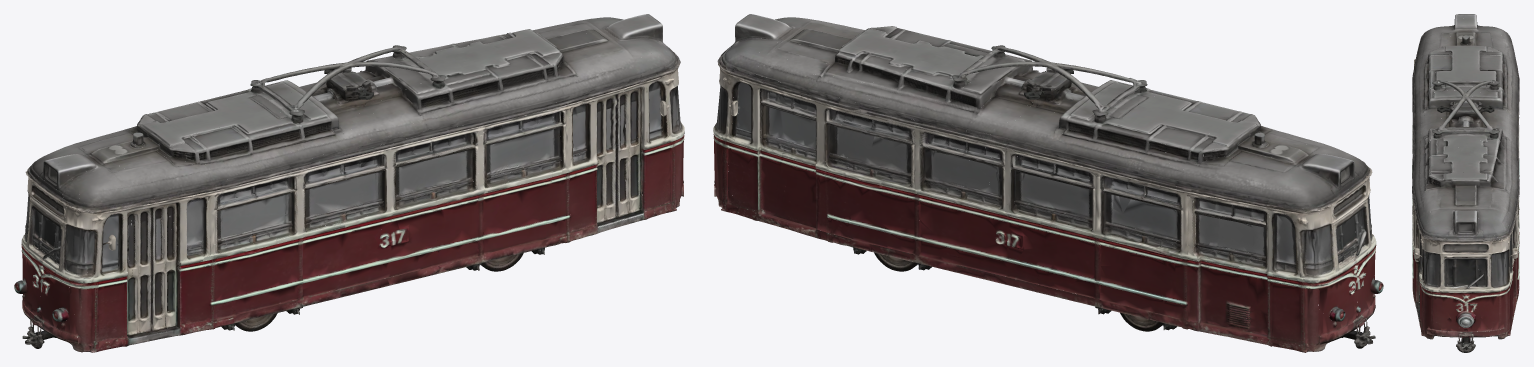
File: gotha_t57.glb
3 views of the same model, side by side, from view 1: azimuth 30°, elevation 25°; view 2: azimuth 150°, elevation 25°; view 3: azimuth 270°, elevation 25° (orthographic). The views are drawn at different scales.
Visible parts, largest first — view 1: Gotha_T57; view 2: Gotha_T57; view 3: Gotha_T57.
Part boxes in pixels (left/top/right/bottom): Gotha_T57: left=14, top=14, right=684, bottom=352; Gotha_T57: left=713, top=14, right=1383, bottom=352; Gotha_T57: left=1412, top=14, right=1519, bottom=352.
Bounding box in the file's own units: 10.9 × 3.48 × 2.2.
1 material, 1 textured.
